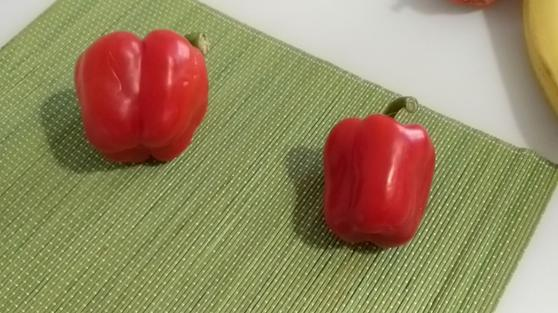pepper: (73, 30, 211, 165), (320, 97, 437, 249)
